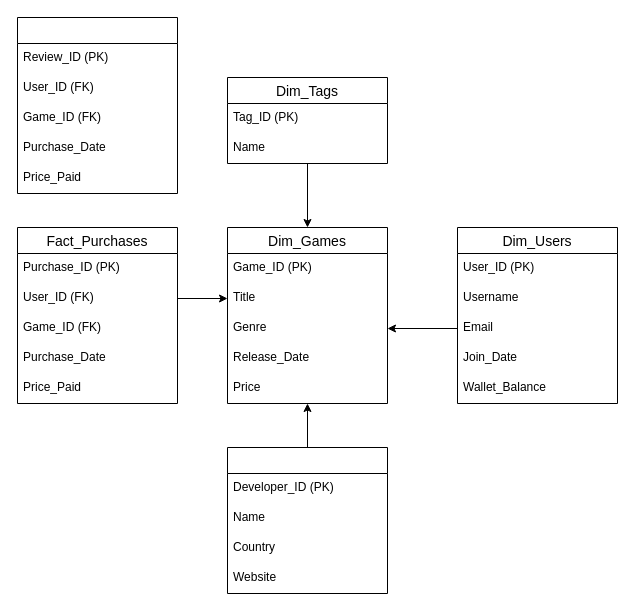
Some shapes in this 635 by 614 pixel diagram are drawn without their labels. Here are the shapes that lost their labels. From the top down, the box of each, then its label:
(16, 16, 178, 194): Fact_Reviews
(226, 446, 388, 594): Dim_Developers
